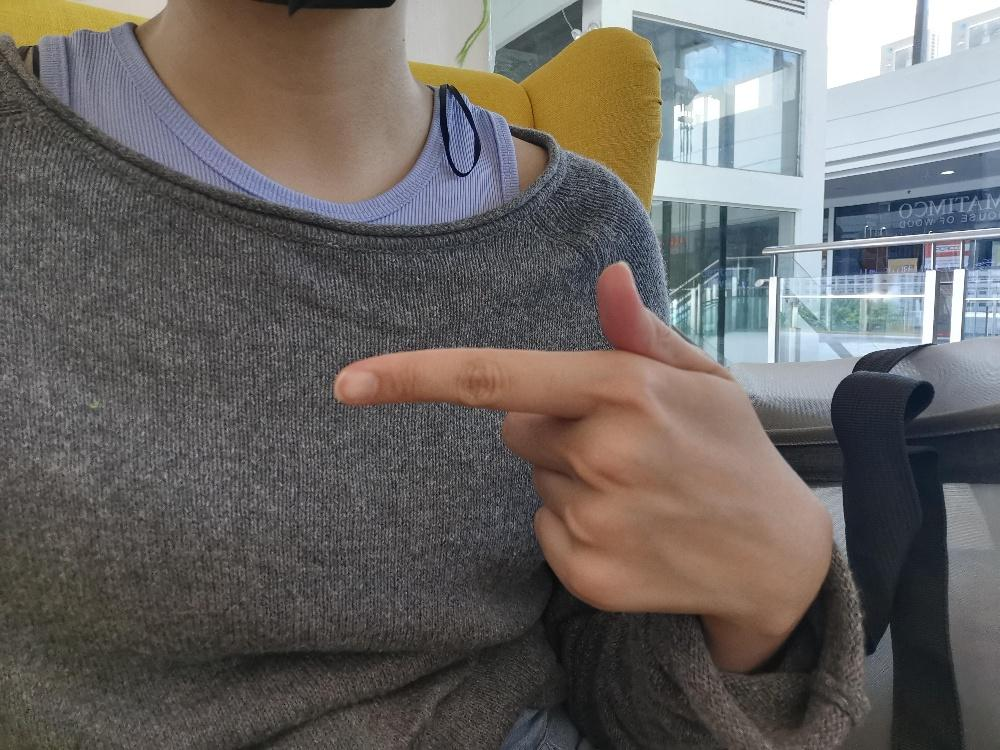g: (331, 258, 834, 628)
